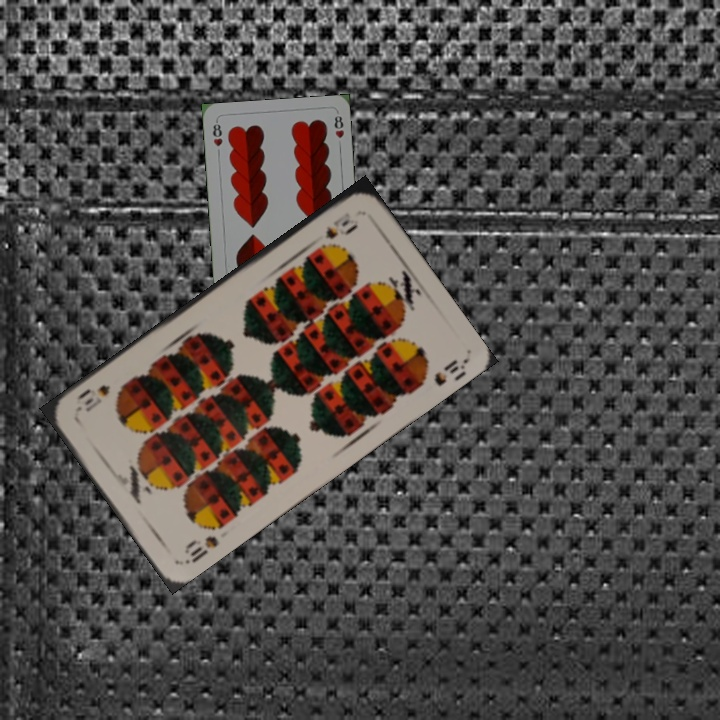H8: (209, 118, 225, 148)
S10: (180, 531, 222, 567), (321, 208, 353, 242)
